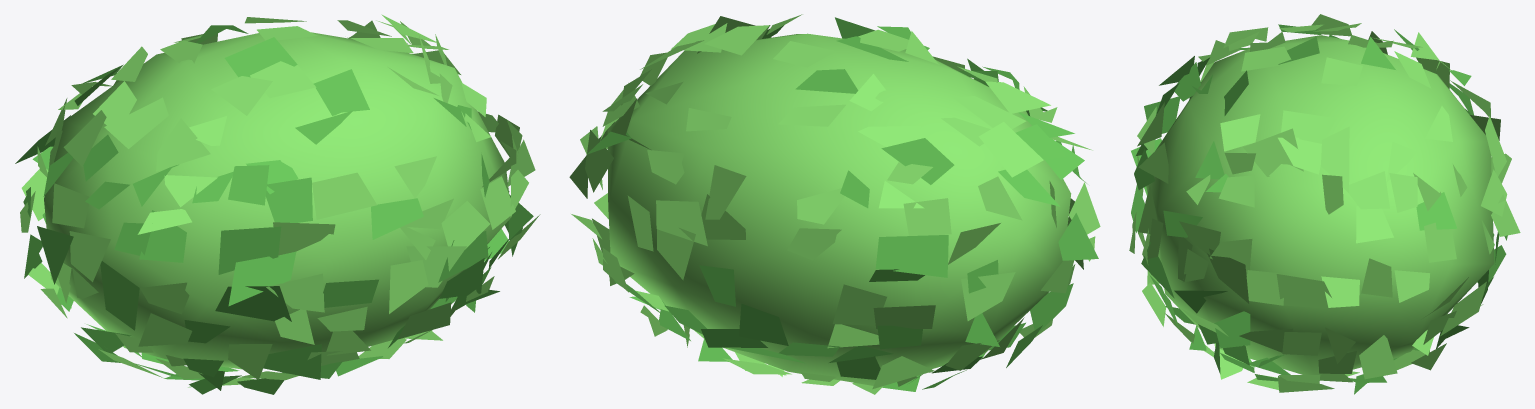
The model's file is bush3.fbx.
3 renders of one model, left to right at view 1: azimuth 30°, elevation 25°; view 2: azimuth 150°, elevation 25°; view 3: azimuth 270°, elevation 25°, orthographic. The views are drawn at different scales.
Parts seen in each view (by area): view 1: Bush3; view 2: Bush3; view 3: Bush3.
Boxes of the visible parts, x1,y1,x2,y2 form: Bush3: [15, 14, 540, 394]; Bush3: [569, 14, 1100, 394]; Bush3: [1129, 14, 1520, 394].
Size of the model in its own units: 2.88 by 2.19 by 1.89.
